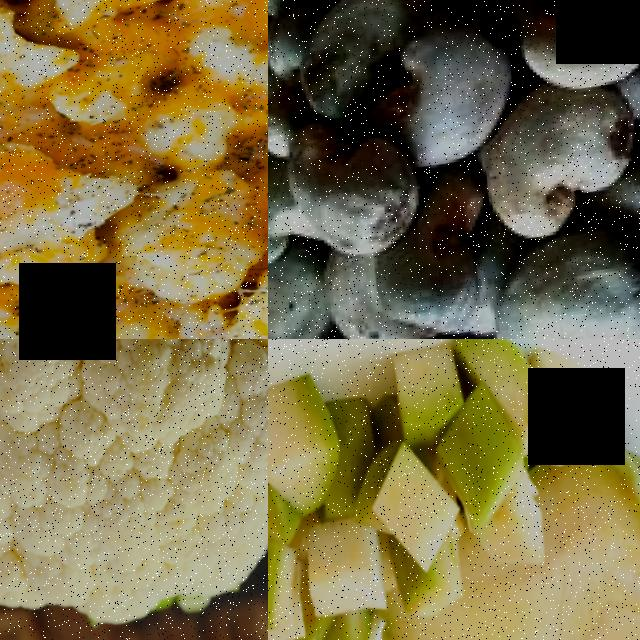cashew: (375, 2, 525, 175), (478, 72, 640, 228), (360, 168, 505, 321), (484, 226, 640, 339), (301, 118, 410, 246), (528, 0, 640, 104), (268, 134, 318, 257), (404, 311, 540, 339)
cauliflower: (0, 339, 268, 640)
